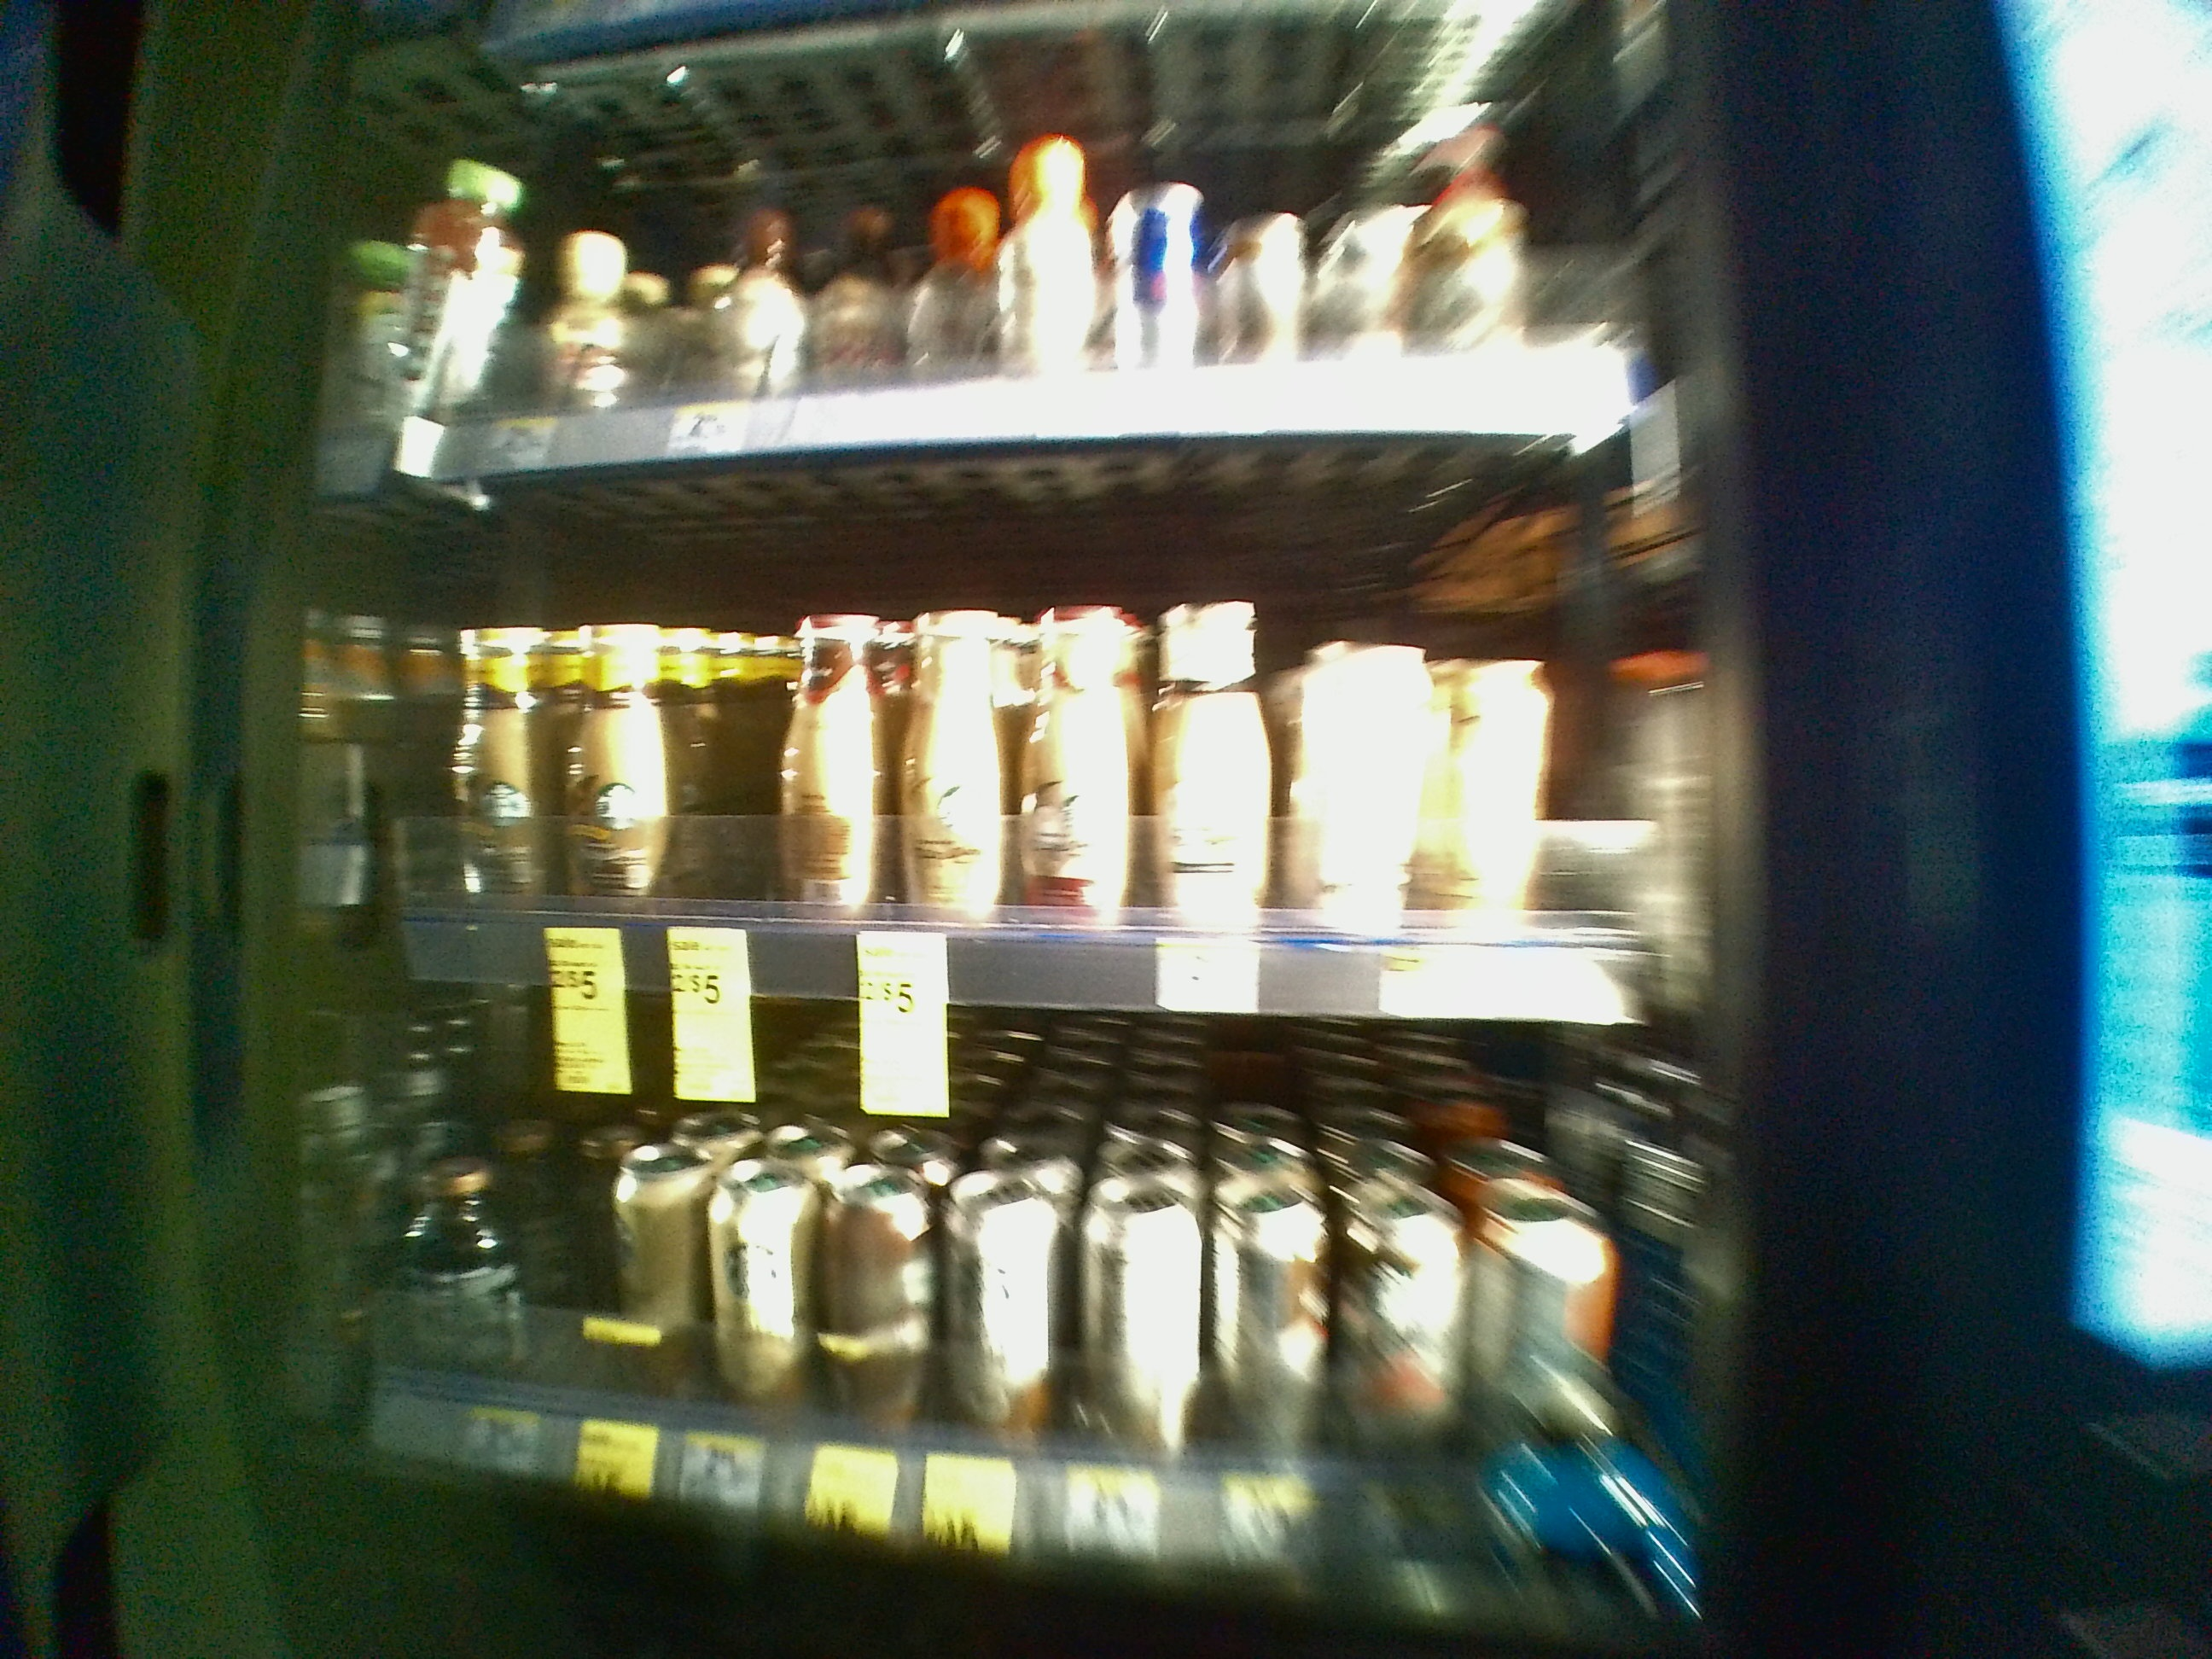shelf: (287, 488, 1702, 1018)
